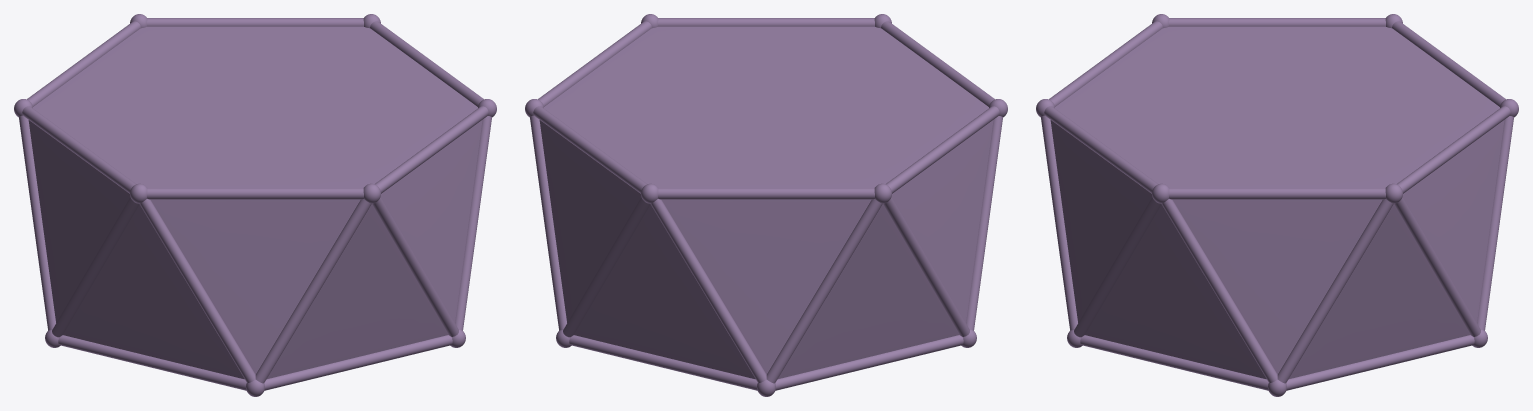
File: AntiprismaHexagonal.gltf
3 views of the same model, side by side, from view 1: azimuth 30°, elevation 25°; view 2: azimuth 150°, elevation 25°; view 3: azimuth 270°, elevation 25° (orthographic).
Visible parts, largest first — view 1: AntiprismaHexagonal; view 2: AntiprismaHexagonal; view 3: AntiprismaHexagonal.
Part boxes in pixels (left/top/right/bottom): AntiprismaHexagonal: left=14, top=14, right=496, bottom=396; AntiprismaHexagonal: left=525, top=14, right=1007, bottom=396; AntiprismaHexagonal: left=1036, top=14, right=1518, bottom=396.
Bounding box in the file's own units: 9.44 × 4.28 × 9.44.
